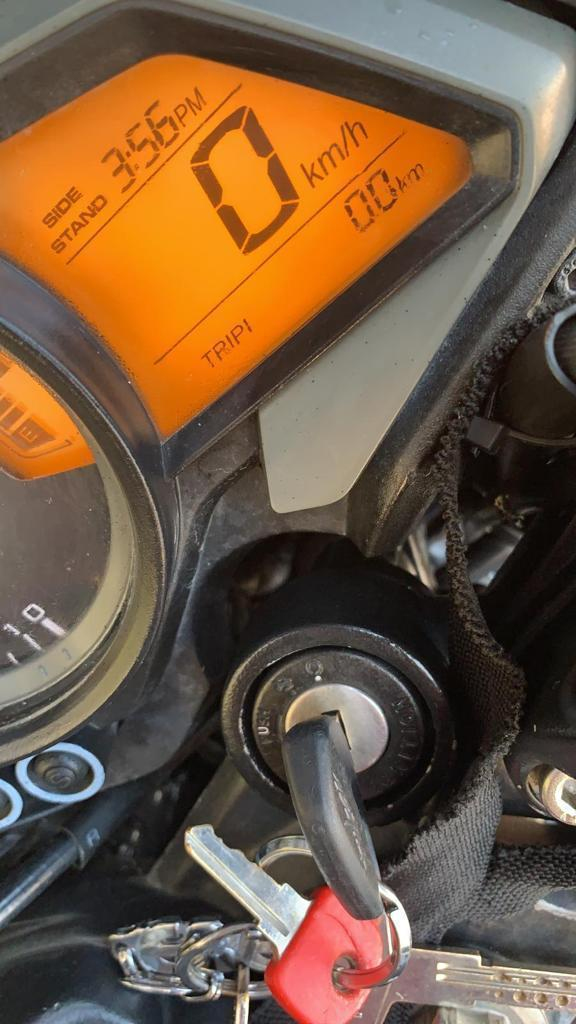,: (374, 210, 380, 218)
0: (189, 104, 299, 255), (364, 167, 397, 212), (342, 188, 374, 232)
1: (242, 317, 252, 333)
3: (99, 146, 135, 194)
5: (123, 121, 160, 167)
6: (143, 99, 179, 147)
X: (184, 85, 205, 133), (316, 142, 343, 176), (299, 159, 322, 188), (344, 118, 367, 147), (338, 122, 349, 159), (122, 148, 139, 171), (173, 103, 187, 127), (407, 162, 423, 183), (54, 196, 70, 215), (394, 172, 408, 193), (65, 185, 81, 203), (212, 339, 225, 361), (79, 206, 95, 223), (91, 194, 107, 211), (200, 349, 214, 368), (70, 220, 86, 236), (50, 238, 65, 254), (230, 323, 242, 343), (41, 212, 55, 227), (60, 226, 72, 242), (224, 333, 234, 349), (50, 206, 61, 218)
odometer: (0, 40, 490, 459)
